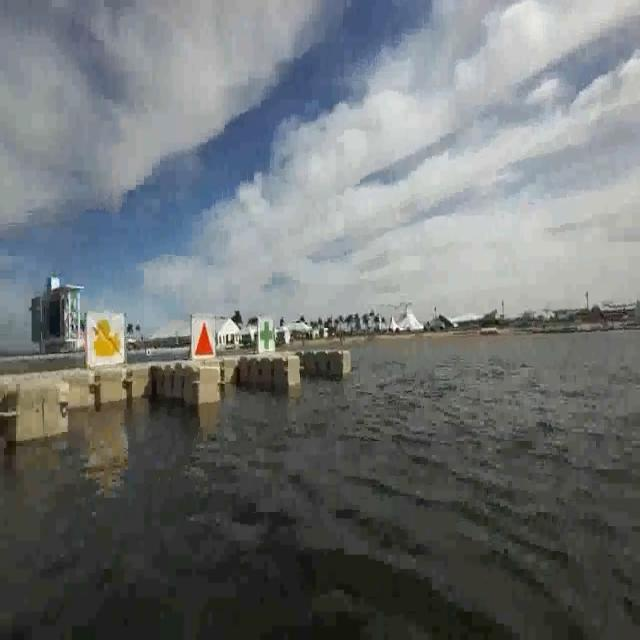blue-cross: (260, 319, 277, 357)
red-dot: (190, 321, 215, 362)
yellow-duck: (89, 314, 123, 367)
